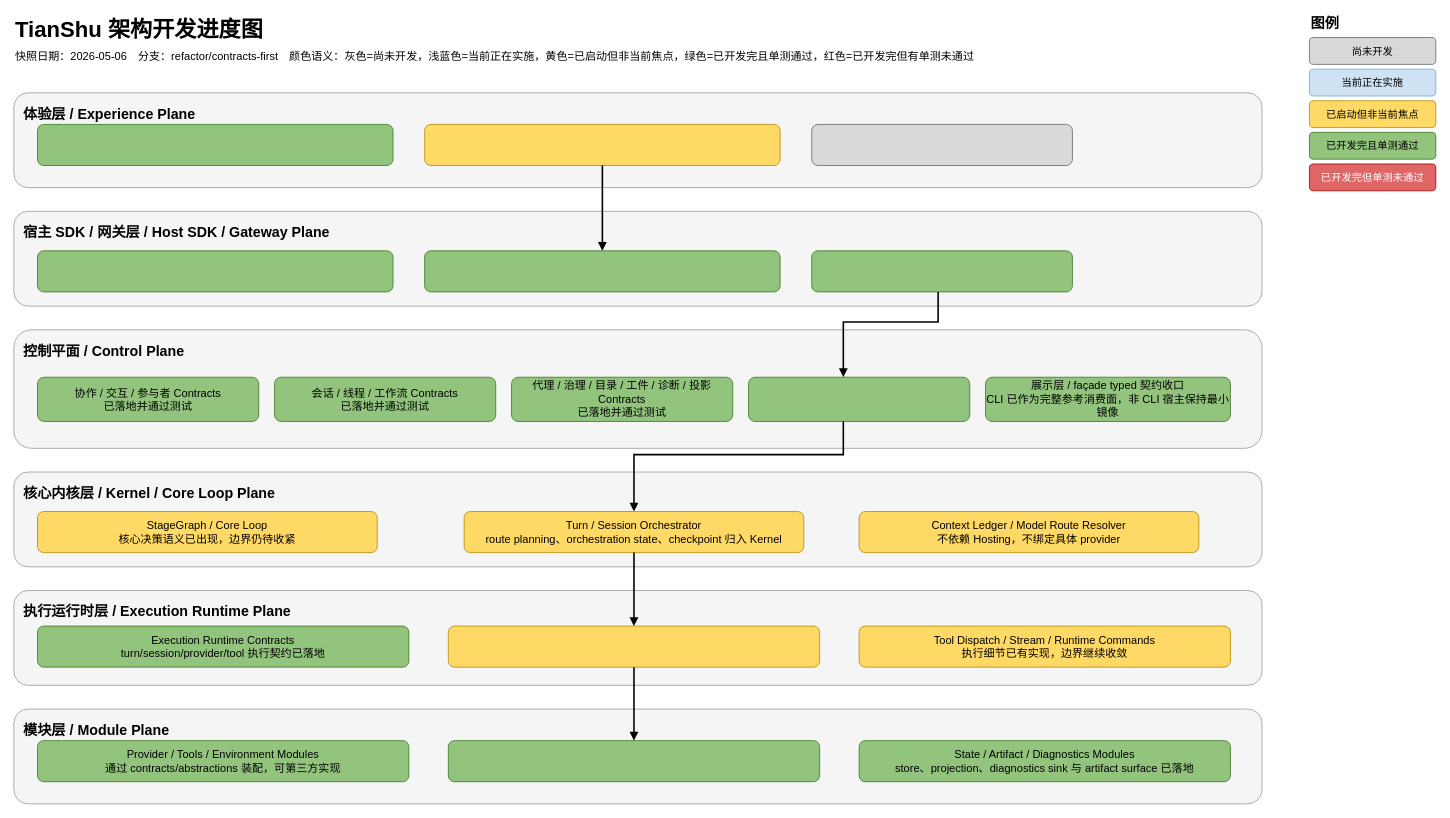
Some shapes in this 1450 by 818 pixel diagram are drawn without their labels. Here are the shapes that lost their labels. From the top down, the centre of each, then its label:
At (215,145): "CLI 命令行 参考消费面与 formal surface 已收口".
At (602,145): "VSIX / Sidecar 宿主 保留最小消费面与必要架构锁".
At (941,145): "Web / Service / 嵌入式宿主 仍未并入当前主线仓库".
At (215,271): "TianShu.Contracts.Host 契约与测试已完成".
At (602,271): "Host Gateway typed surface 诊断、目录、代理与投影入口已收口".
At (941,271): "HostViewUpdate 真物化 真实 snapshot / reset 已接回".
At (859,398): "ControlPlane.Abstractions / Runtime Boundary typed surface、运行时入口与消费者脱壳已完成".
At (634,646): "Turn Runtime / Provider Pipeline 执行主链已落地，继续从 AppHost 抽离核心语义".
At (634,761): "Identity / Memory Modules provider、service、gateway 与宿主接入已完成".
